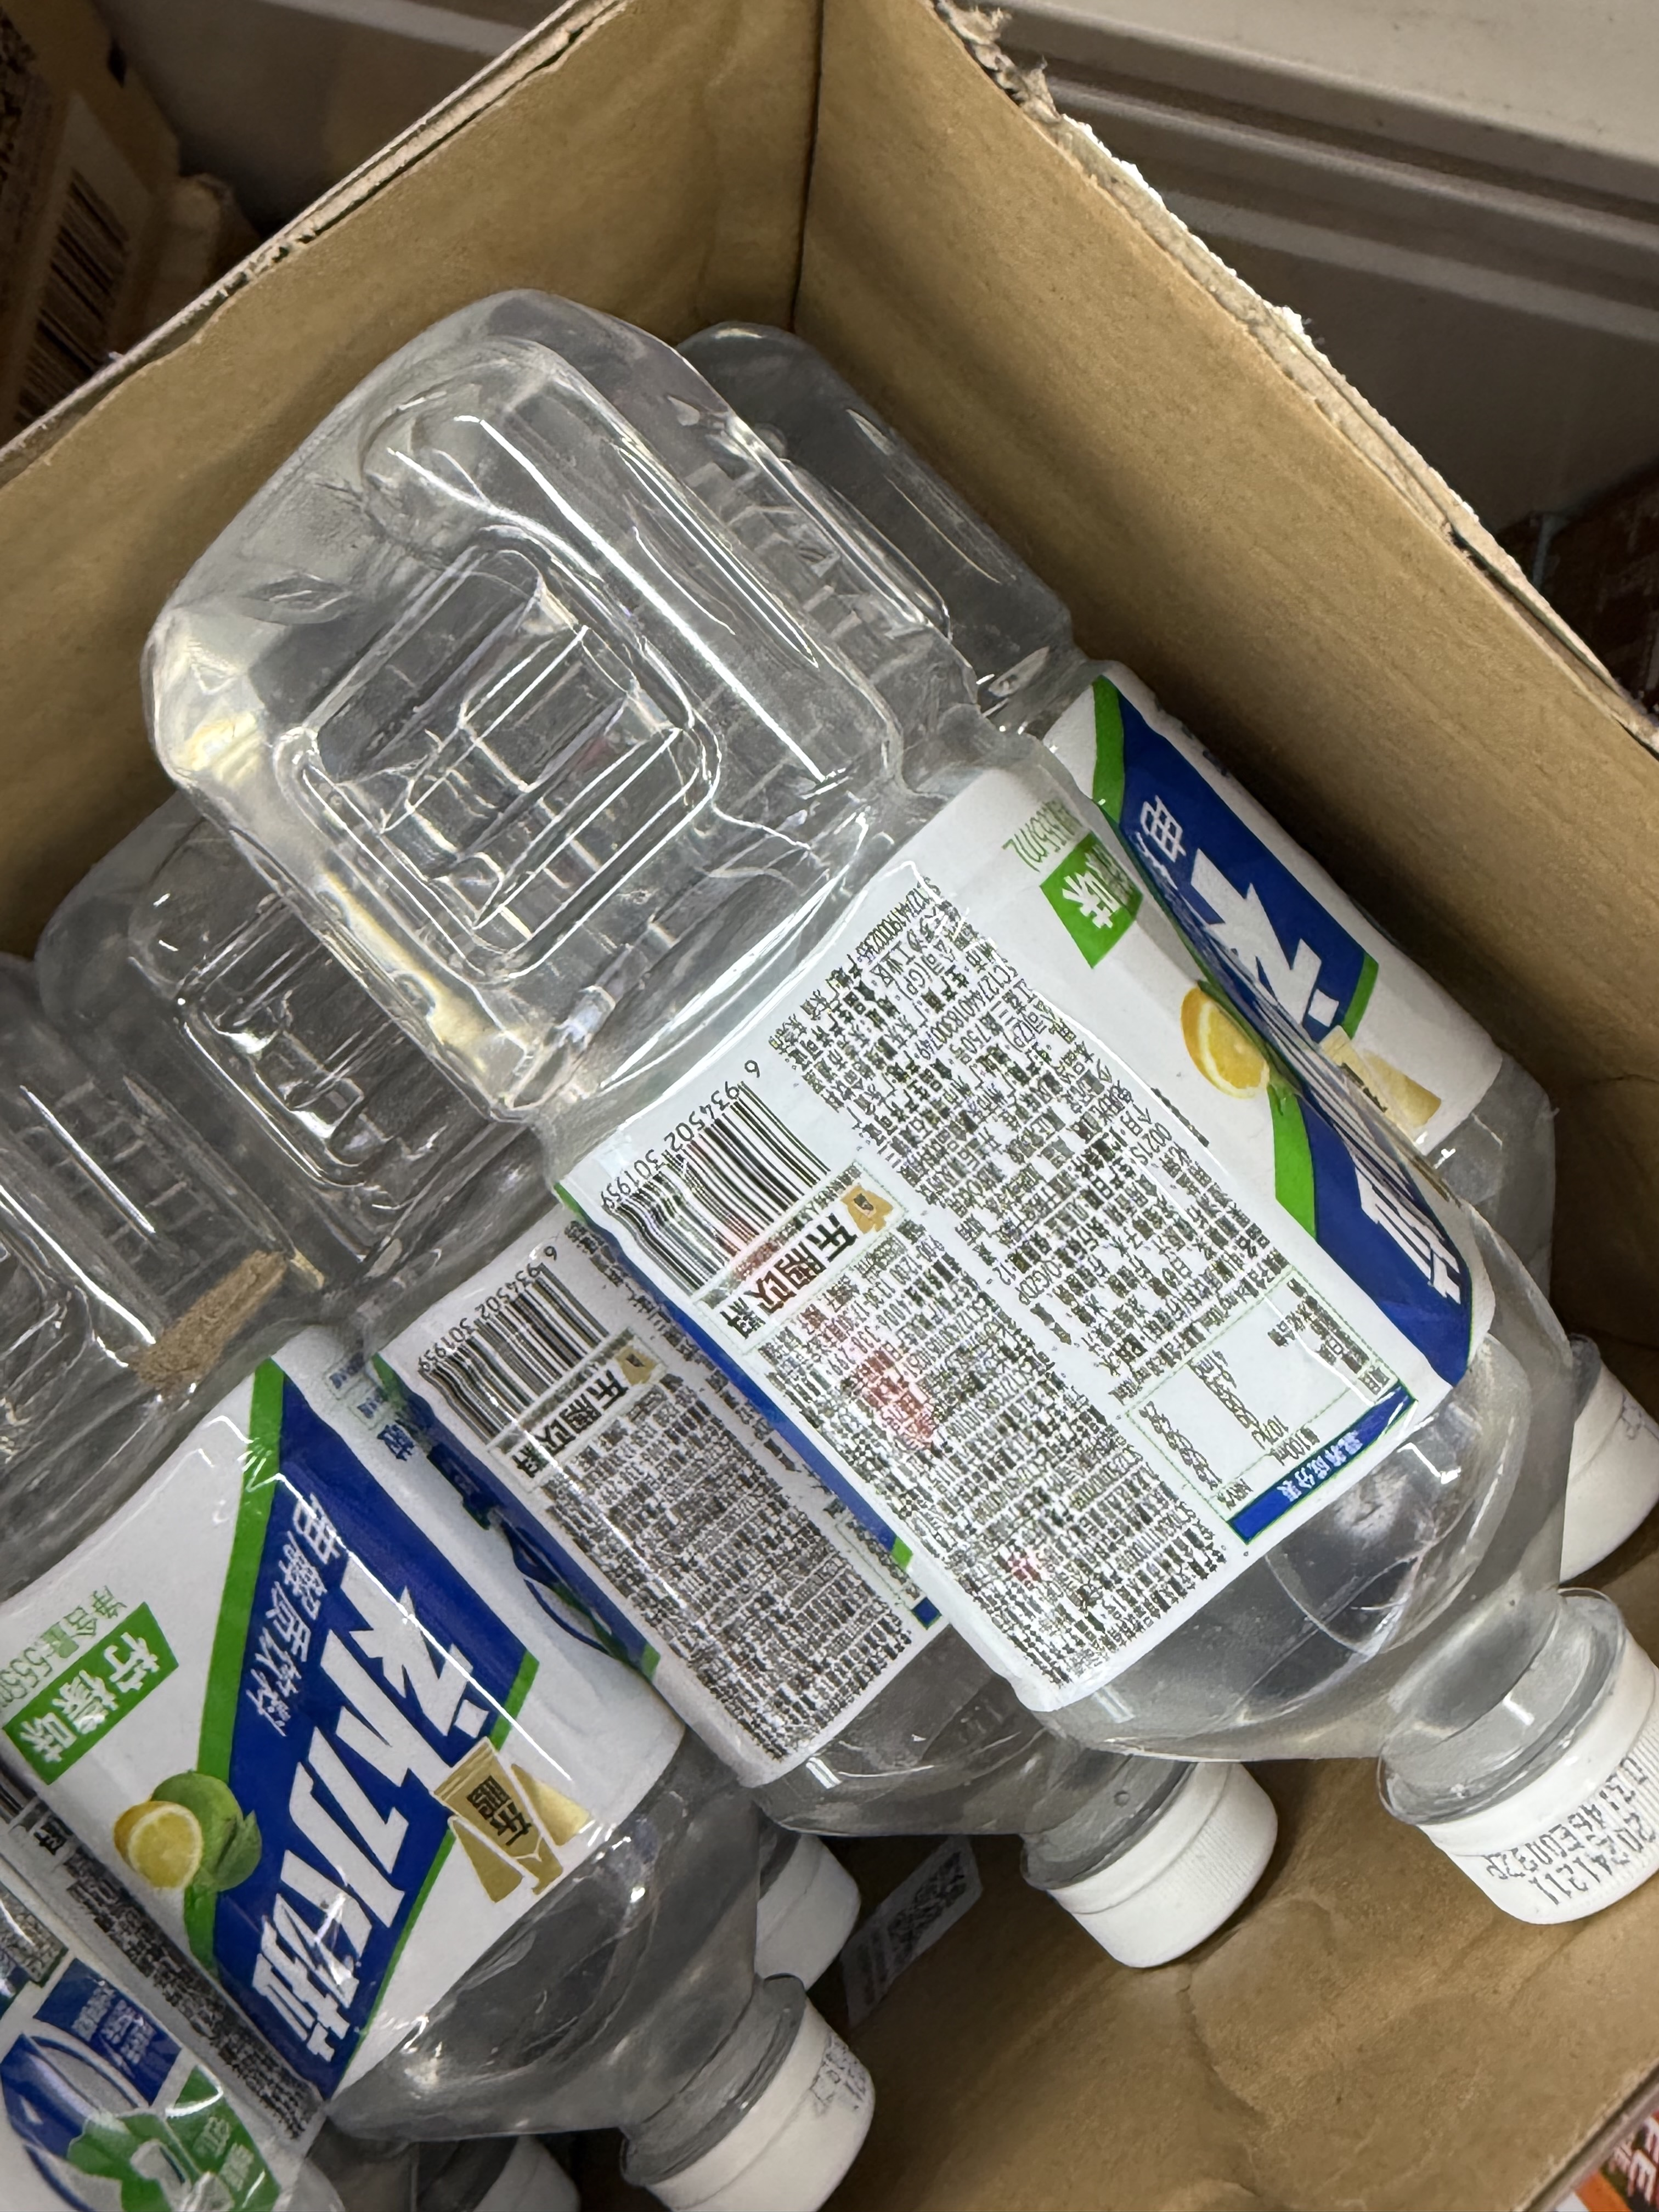bar: (601, 1076, 838, 1303)
